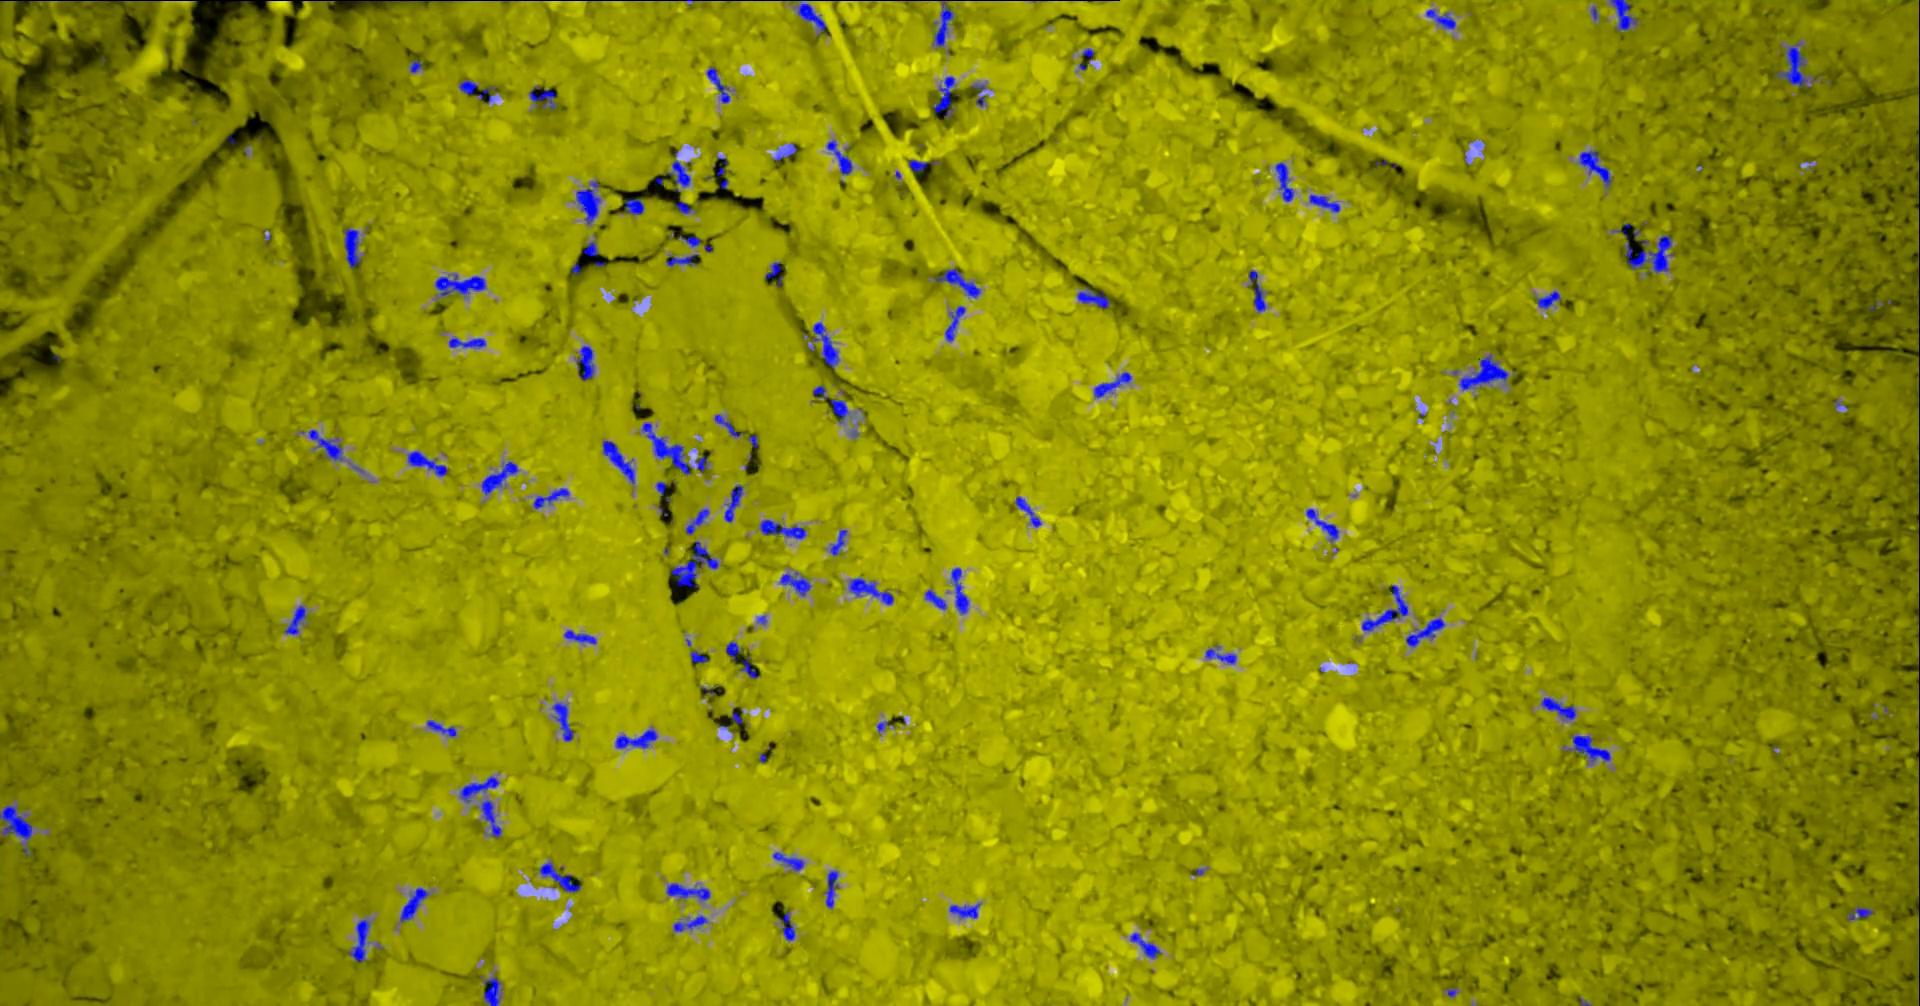ant: (641, 422, 707, 474), (1611, 222, 1674, 272), (670, 541, 717, 587), (1361, 584, 1407, 631), (1458, 353, 1507, 390), (1773, 43, 1815, 86), (811, 385, 848, 423), (935, 267, 980, 297), (602, 439, 634, 483), (848, 577, 893, 605), (538, 862, 580, 892), (811, 323, 838, 368), (1578, 150, 1611, 187), (481, 461, 518, 494), (1567, 735, 1610, 762), (1404, 617, 1444, 647), (434, 274, 486, 296), (1305, 508, 1338, 541), (408, 450, 448, 476), (458, 775, 498, 801), (309, 429, 342, 461), (0, 805, 30, 840), (575, 180, 599, 224), (797, 0, 827, 36), (1093, 371, 1131, 398), (399, 887, 428, 921), (825, 138, 852, 175), (347, 920, 370, 962), (932, 0, 952, 46), (932, 76, 954, 117), (759, 520, 805, 539), (615, 728, 657, 748), (706, 66, 729, 103), (551, 702, 573, 741), (665, 882, 709, 901), (1609, 0, 1636, 30), (1129, 932, 1161, 958), (951, 567, 968, 614), (1274, 163, 1294, 201), (1015, 495, 1040, 526), (481, 799, 502, 837), (943, 305, 965, 340), (532, 486, 568, 508), (1540, 697, 1575, 719), (724, 484, 743, 522), (778, 572, 810, 594), (343, 227, 361, 268), (1248, 271, 1265, 312), (1076, 287, 1109, 307), (665, 159, 690, 185), (714, 414, 743, 436), (284, 605, 306, 634), (1425, 9, 1455, 29), (530, 85, 555, 109), (684, 508, 709, 533), (577, 345, 594, 380), (772, 851, 804, 870), (673, 915, 707, 931), (483, 976, 500, 1005), (425, 719, 456, 735), (777, 909, 794, 940), (1204, 648, 1236, 663), (825, 870, 838, 908), (1309, 194, 1338, 211), (764, 260, 782, 287), (949, 903, 979, 918), (564, 629, 596, 643), (829, 528, 846, 555), (738, 655, 757, 678), (1535, 290, 1559, 307), (448, 337, 485, 348), (924, 589, 946, 608), (773, 144, 796, 161), (665, 254, 697, 265), (907, 159, 935, 171), (1848, 906, 1873, 920), (971, 83, 985, 105), (712, 156, 729, 175), (623, 197, 643, 213), (725, 641, 742, 661), (458, 79, 477, 94), (677, 234, 700, 246), (477, 86, 495, 102), (582, 240, 597, 257), (674, 201, 692, 213), (690, 650, 709, 662), (1081, 47, 1095, 61), (409, 58, 423, 72), (655, 481, 665, 497), (383, 0, 452, 1), (1917, 298, 1919, 351)
